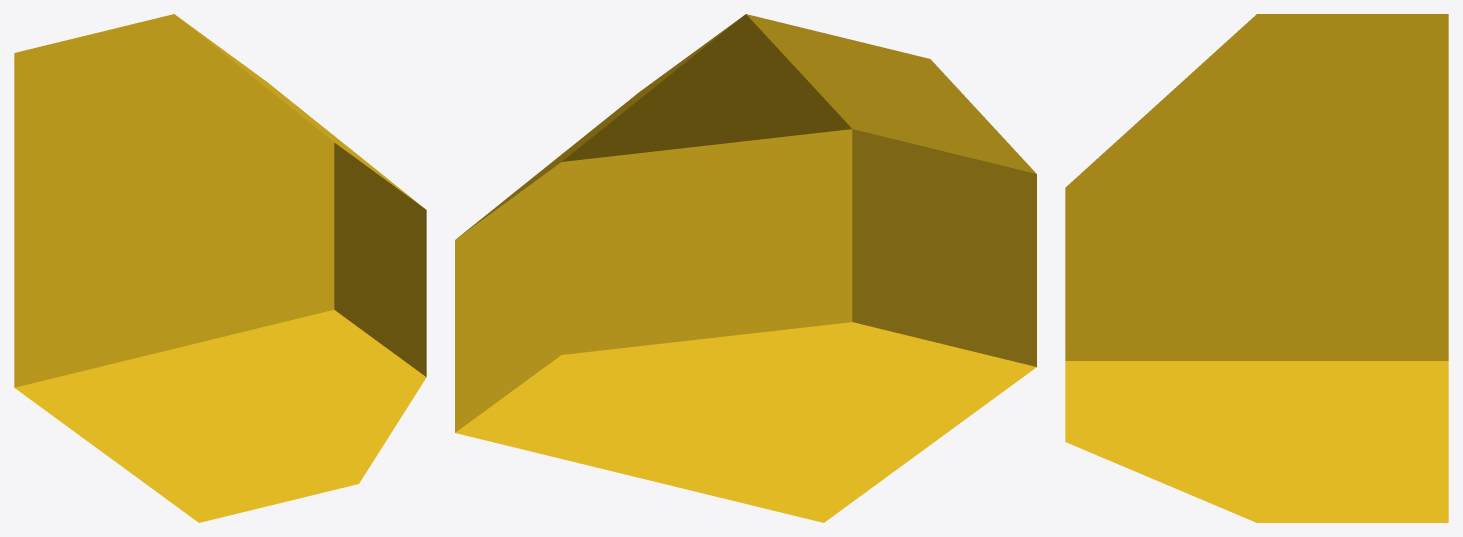
Rendered from r5c6_border_yellow.gltf.
The picture shows the model from 3 angles, left to right: view 1: azimuth 30°, elevation 25°; view 2: azimuth 150°, elevation 25°; view 3: azimuth 270°, elevation 25°; orthographic projection. The views are drawn at different scales.
Parts seen in each view (by area): view 1: r5c6_border_yellow; view 2: r5c6_border_yellow; view 3: r5c6_border_yellow.
Boxes of the visible parts, x1,y1,x2,y2 form: r5c6_border_yellow: (14,14,426,522); r5c6_border_yellow: (455,14,1036,522); r5c6_border_yellow: (1065,14,1448,522).
Bounding box in the file's own units: 2.1 × 2.1 × 2.1.
1 material, 1 textured.
